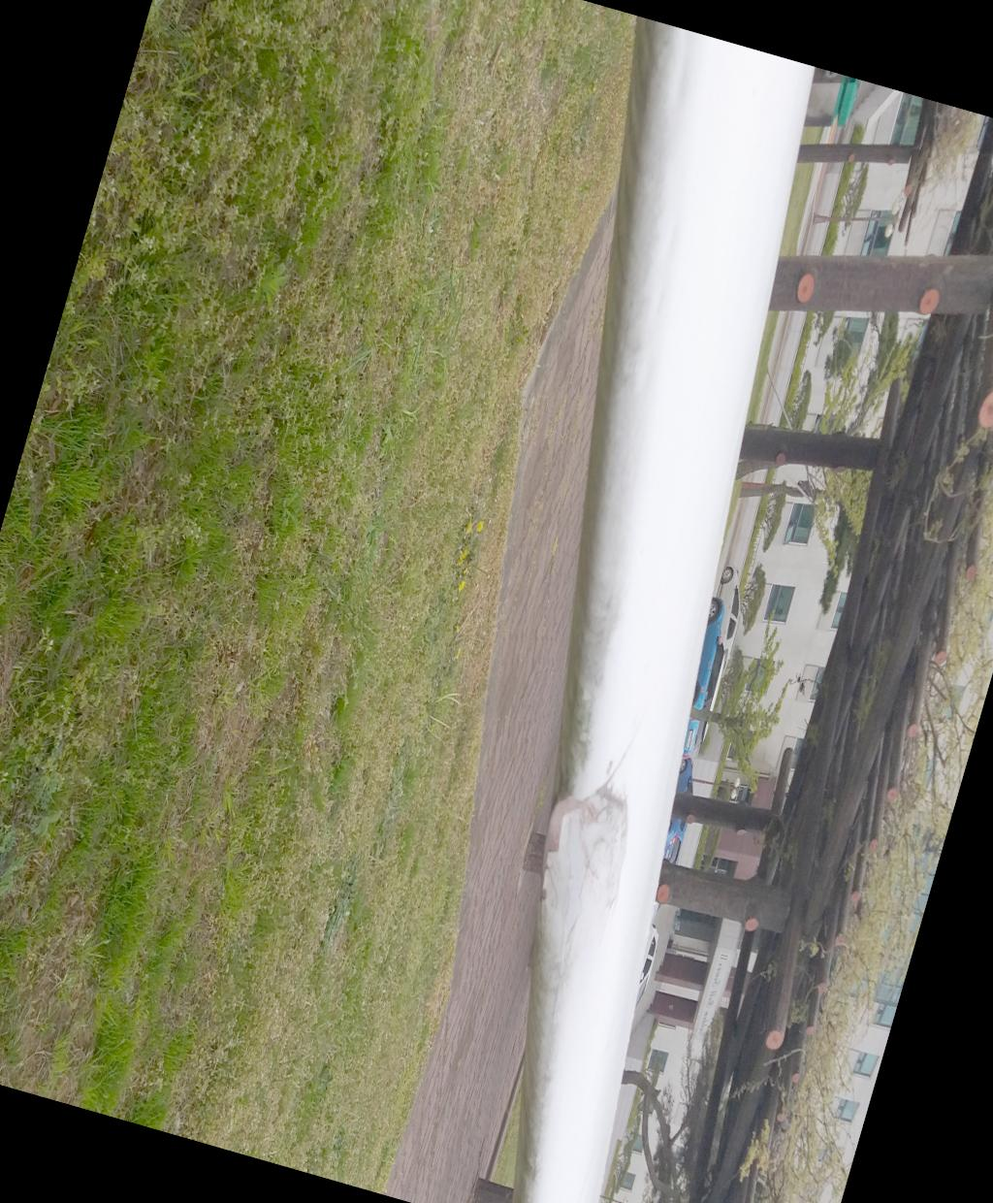corrosion: (696, 811, 850, 1034)
